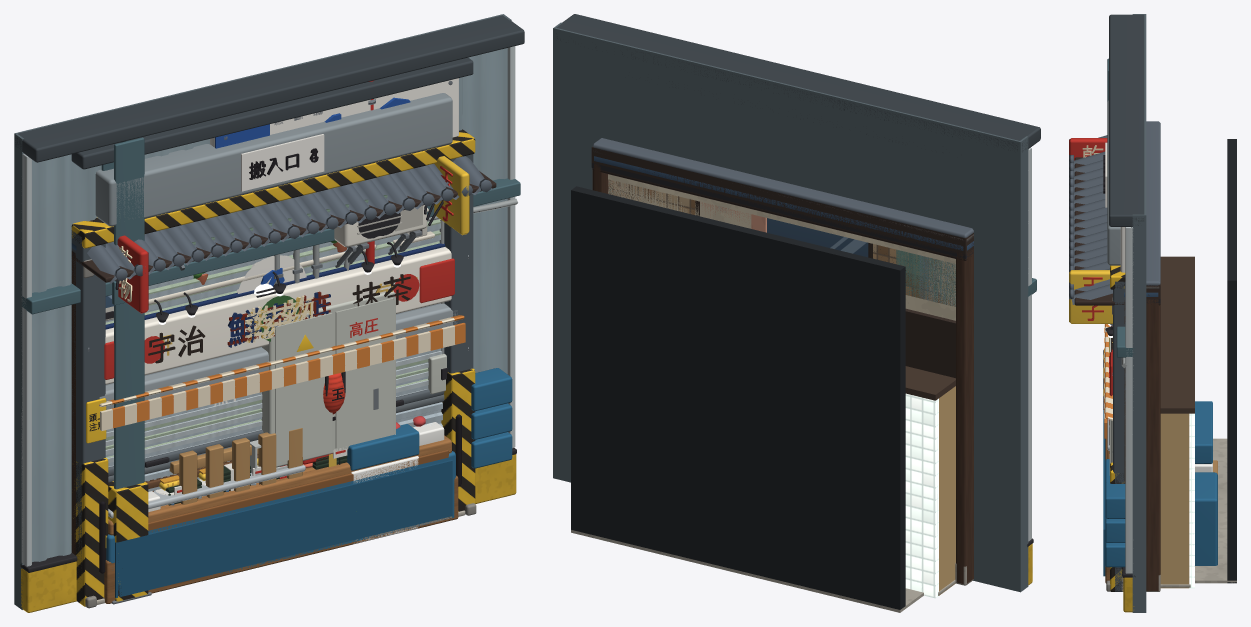
The model's file is facades.glb.
3 renders of one model, left to right at view 1: azimuth 30°, elevation 25°; view 2: azimuth 150°, elevation 25°; view 3: azimuth 270°, elevation 25°, orthographic. The views are drawn at different scales.
Parts seen in each view (by area): view 1: hall_0, bay_0, shop_0, hall_1, shop_5, shop_3, shop_1, hall_2, shop_4, bay_1, shop_2; view 2: bay_1, hall_0, shop_0, bay_0, shop_5, shop_1, shop_2, shop_4; view 3: hall_0, shop_0, bay_1, shop_5, bay_0, hall_1, shop_4, shop_1, hall_2.
Boxes of the visible parts, x1,y1,x2,y2 form: hall_0: (14,14,524,612); bay_0: (71,57,475,606); shop_0: (71,203,465,604); hall_1: (261,111,517,468); shop_5: (71,156,496,571); shop_3: (83,200,457,608); shop_1: (99,221,476,603); hall_2: (169,78,458,543); shop_4: (105,156,469,518); bay_1: (105,148,444,476); shop_2: (115,195,417,468); bay_1: (571,186,923,612); hall_0: (553,14,1040,592); shop_0: (591,150,973,598); bay_0: (601,60,973,230); shop_5: (591,138,973,304); shop_1: (609,183,955,306); shop_2: (608,179,955,306); shop_4: (728,208,955,306); hall_0: (1103,14,1146,612); shop_0: (1103,256,1194,591); bay_1: (1103,139,1236,583); shop_5: (1069,121,1160,351); bay_0: (1103,100,1125,591); hall_1: (1105,326,1126,567); shop_4: (1069,270,1112,450); shop_1: (1069,138,1113,591); hall_2: (1105,227,1125,483).
Size of the model in its own units: 5 by 4.6 by 1.76.
Materials: 159 (52 with a texture image).
